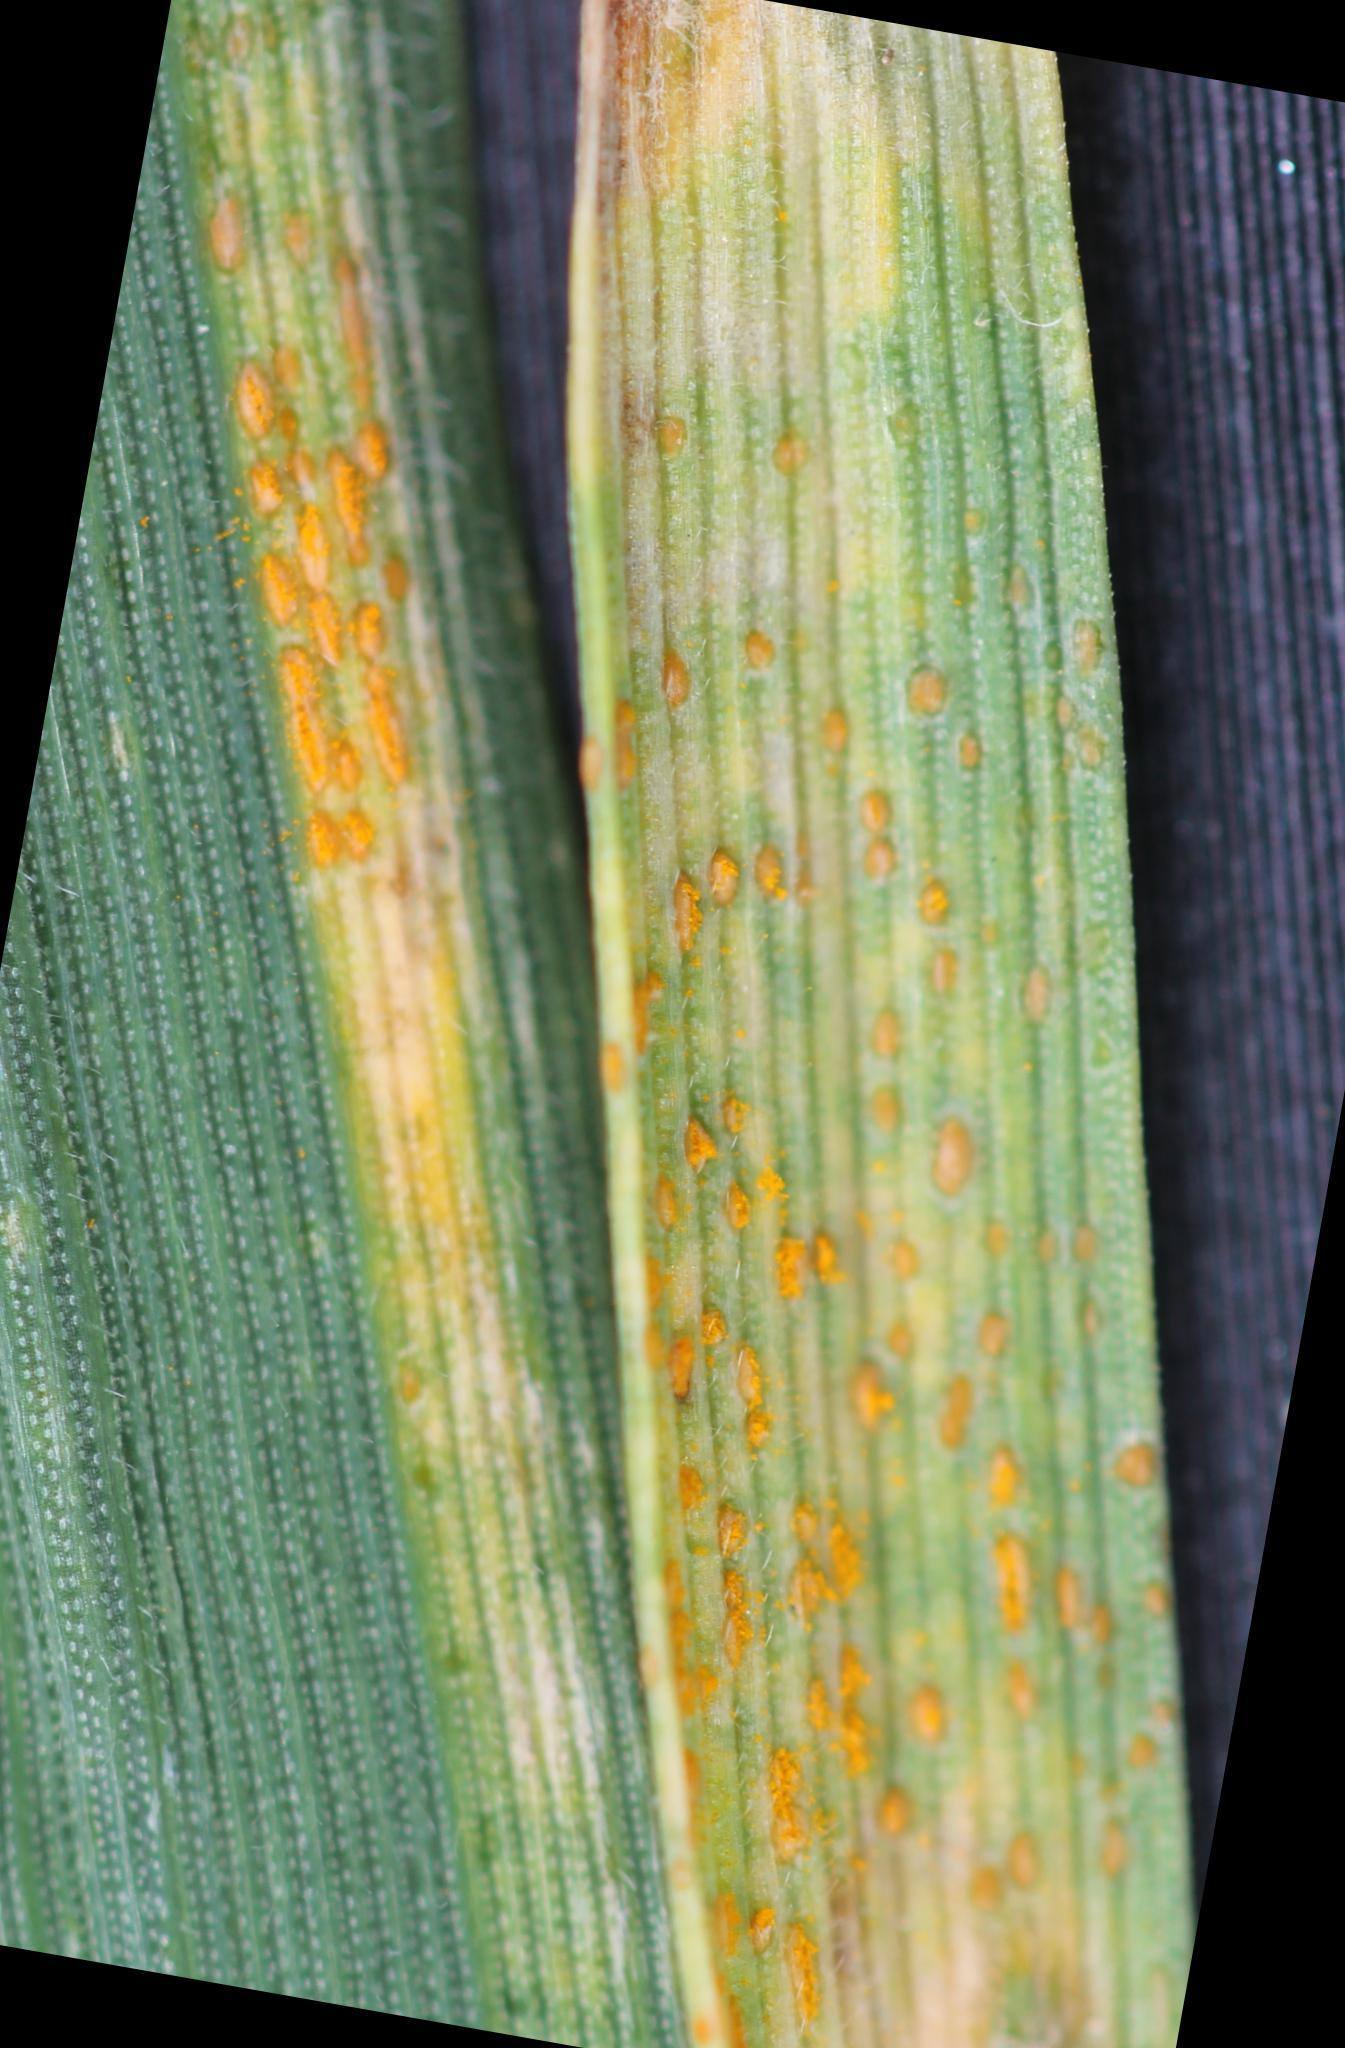Wheat: (624, 599, 1094, 2040), (200, 170, 438, 1134)
